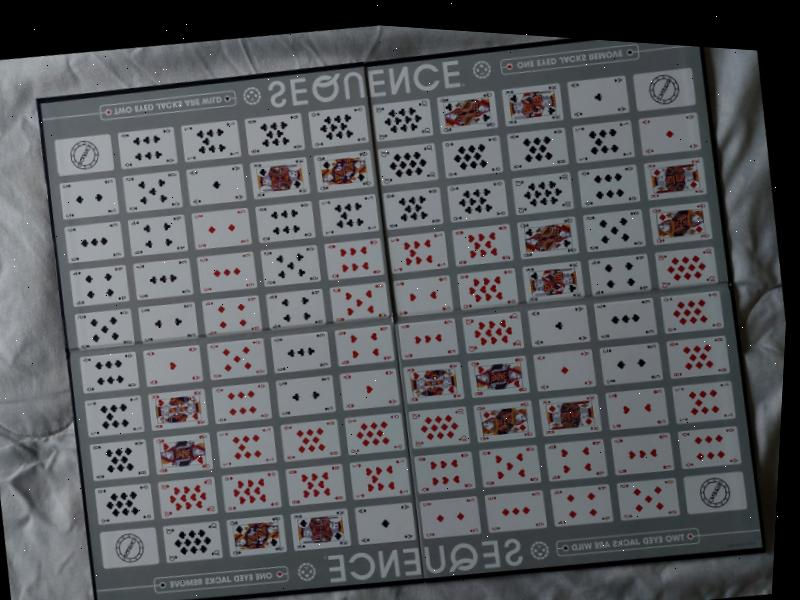Board: (32, 35, 775, 600)
